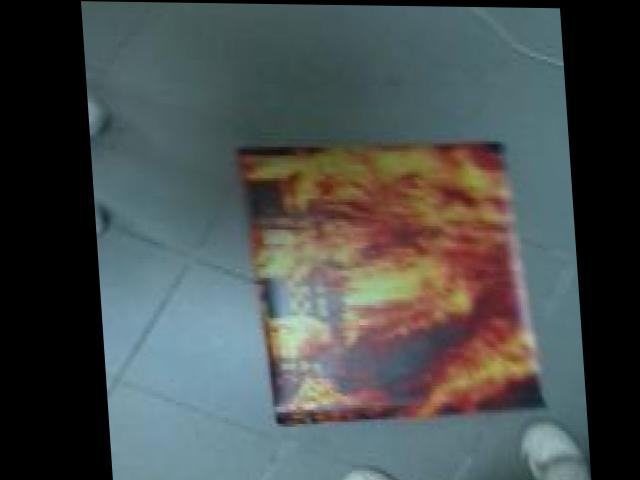fire-poster: (230, 131, 544, 432)
